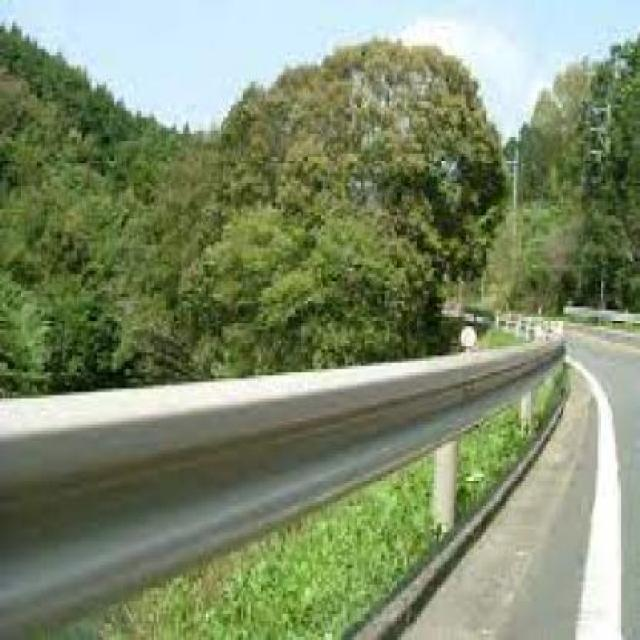Guard rail: (0, 312, 568, 640)
